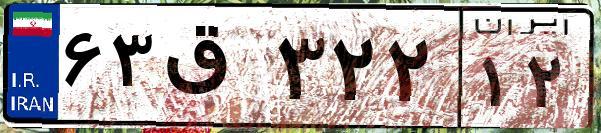1: (475, 38, 525, 113)
2: (385, 28, 445, 110), (330, 28, 385, 110), (525, 38, 570, 115)
3: (270, 28, 330, 110), (110, 28, 158, 98)
6: (57, 26, 110, 100)
ق: (158, 20, 270, 120)
